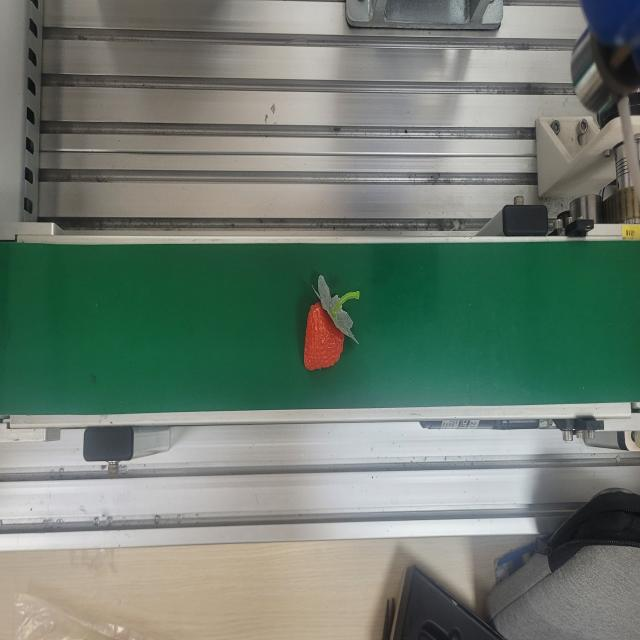Small Ripe Strawberry: (302, 271, 362, 374)
conveyor: (1, 233, 640, 411)
